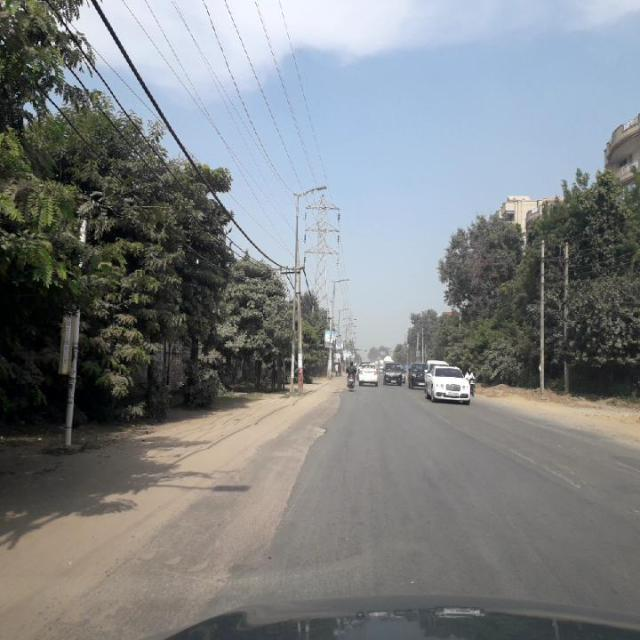D00: (221, 492, 291, 585), (291, 402, 337, 488)
D40: (306, 420, 332, 446)
